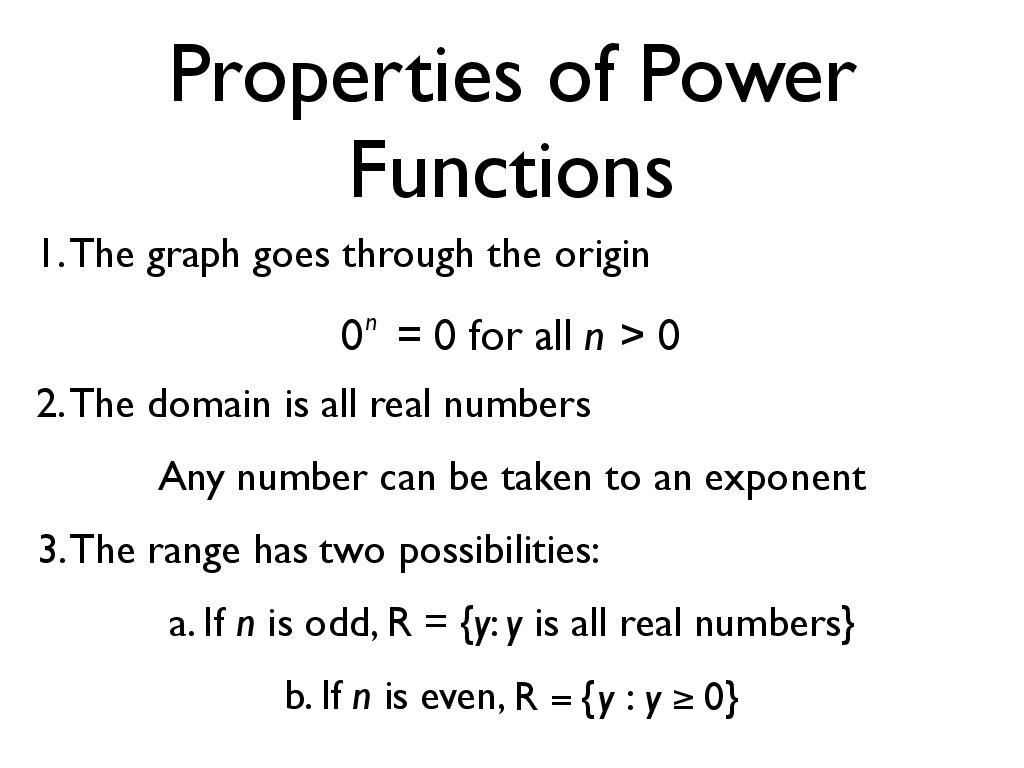paragraph: (18, 227, 968, 768)
title: (162, 28, 877, 223)
